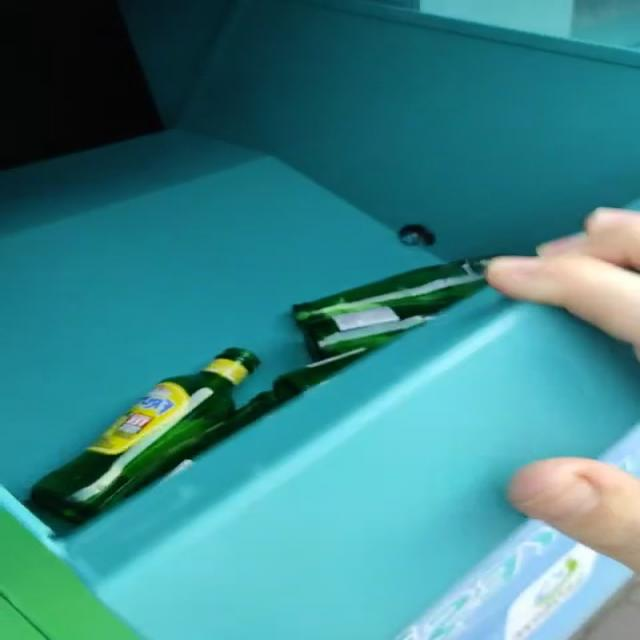glass: (32, 259, 489, 524)
